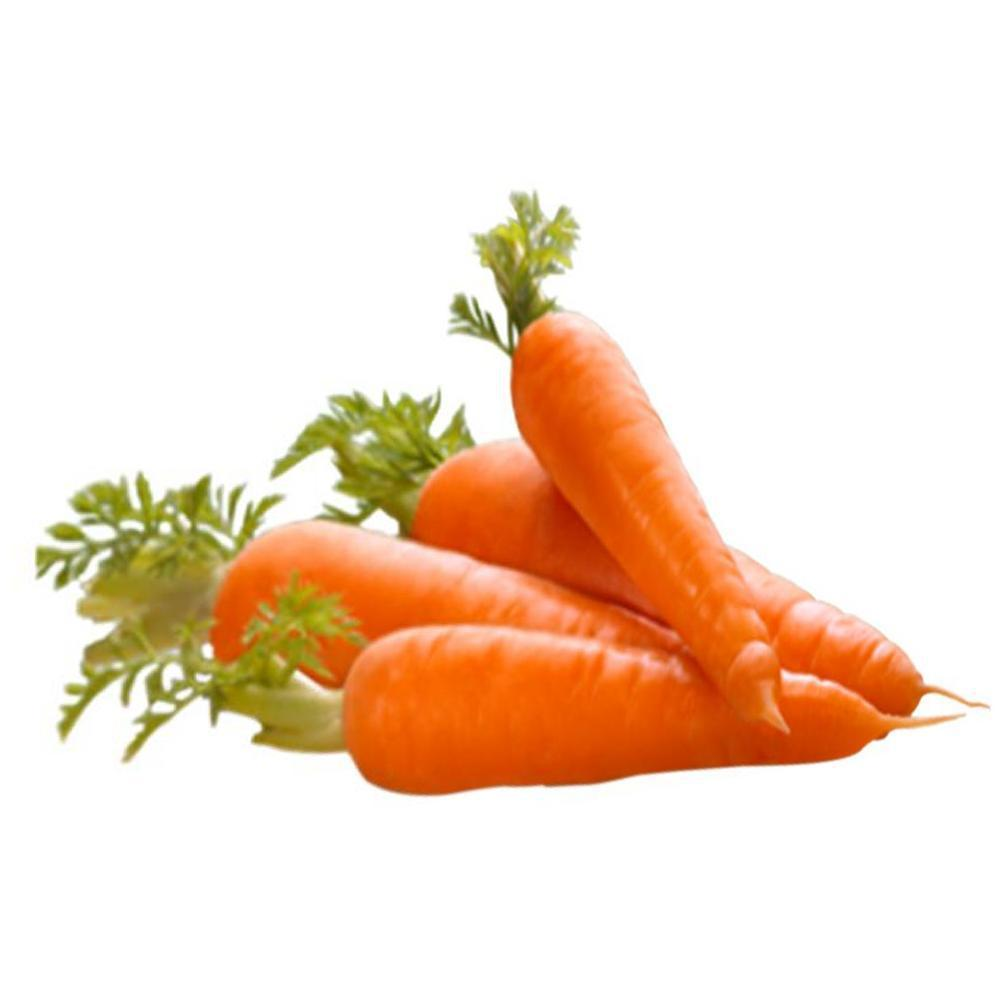carrot: (111, 410, 929, 727), (205, 616, 914, 801), (498, 299, 791, 719)
